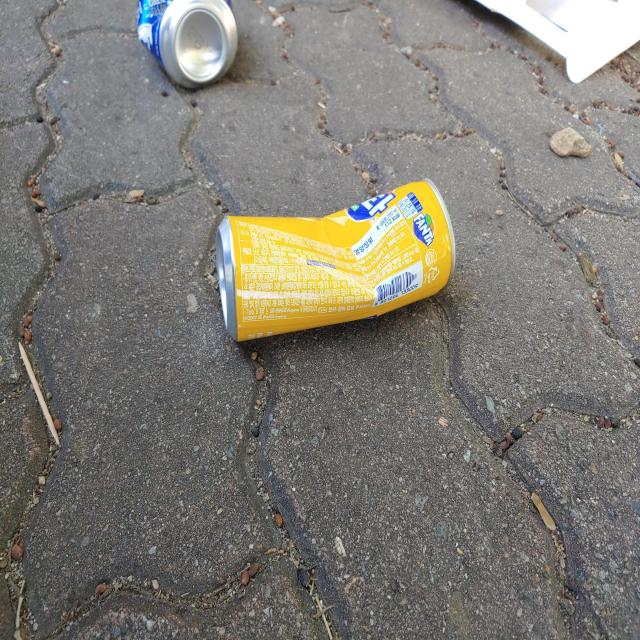can: (216, 178, 456, 341), (136, 0, 238, 87)
